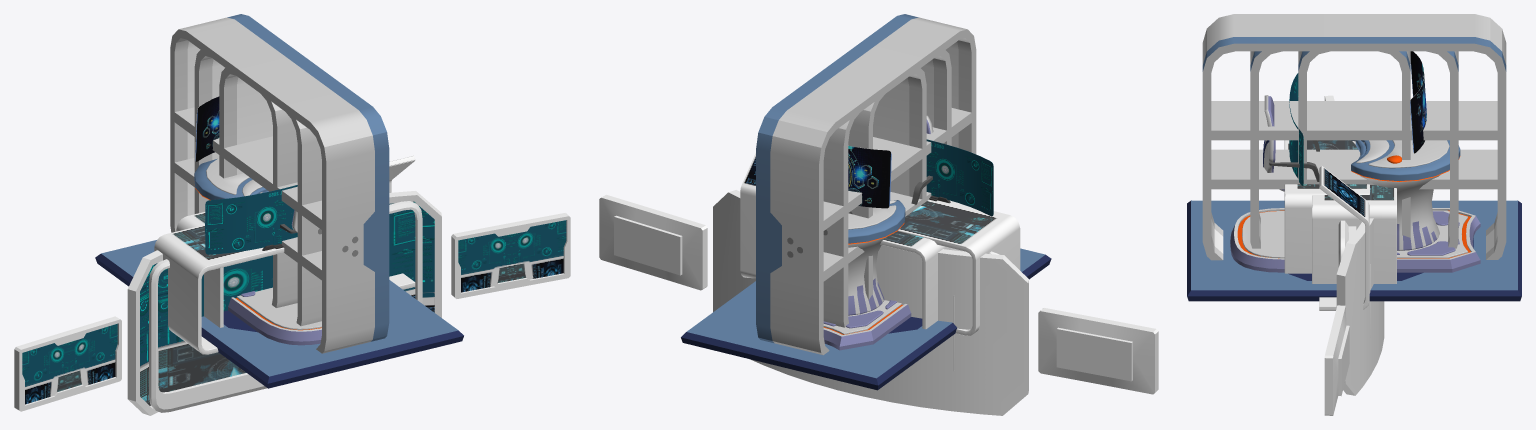
File: Class_Room.fbx
3 renders of one model, left to right at view 1: azimuth 30°, elevation 25°; view 2: azimuth 150°, elevation 25°; view 3: azimuth 270°, elevation 25°, orthographic. The views are drawn at different scales.
Parts seen in each view (by area): view 1: Shelf_Lvl_03, Bord_LVL_03, Classroom_Chair, Bord_LVL_02, Teacher_Desk_LVL_03, Shelf_Lvl_01, Shelf_Lvl_02, Teacher_Desk_LVL_02, Teacher_Desk_LVL_01; view 2: Bord_LVL_03, Shelf_Lvl_03, Classroom_Chair, Shelf_Lvl_02, Teacher_Desk_LVL_03, Teacher_Desk_LVL_02, Shelf_Lvl_01, Teacher_Desk_LVL_01; view 3: Shelf_Lvl_03, Classroom_Chair, Bord_LVL_03, Teacher_Desk_LVL_01, Shelf_Lvl_02, Shelf_Lvl_01, Teacher_Desk_LVL_03, Teacher_Desk_LVL_02, Bord_LVL_02.
Part boxes in pixels (box(x1,y1,x2,y2)): Shelf_Lvl_03: box(170, 14, 389, 353); Bord_LVL_03: box(14, 191, 570, 415); Classroom_Chair: box(95, 96, 463, 388); Bord_LVL_02: box(149, 201, 422, 412); Teacher_Desk_LVL_03: box(154, 160, 415, 354); Shelf_Lvl_01: box(219, 68, 297, 307); Shelf_Lvl_02: box(194, 47, 321, 326); Teacher_Desk_LVL_02: box(154, 156, 415, 351); Teacher_Desk_LVL_01: box(176, 212, 223, 327); Bord_LVL_03: box(599, 190, 1158, 415); Shelf_Lvl_03: box(756, 14, 976, 355); Classroom_Chair: box(681, 115, 1051, 390); Shelf_Lvl_02: box(823, 47, 951, 327); Teacher_Desk_LVL_03: box(740, 139, 1020, 335); Teacher_Desk_LVL_02: box(740, 153, 1020, 332); Shelf_Lvl_01: box(848, 68, 926, 299); Teacher_Desk_LVL_01: box(880, 231, 951, 329); Shelf_Lvl_03: box(1202, 14, 1506, 260); Classroom_Chair: box(1187, 51, 1521, 301); Bord_LVL_03: box(1324, 95, 1384, 415); Teacher_Desk_LVL_01: box(1312, 185, 1396, 283); Shelf_Lvl_02: box(1250, 43, 1458, 248); Shelf_Lvl_01: box(1298, 43, 1410, 237); Teacher_Desk_LVL_03: box(1285, 73, 1369, 310); Teacher_Desk_LVL_02: box(1284, 140, 1369, 307); Bord_LVL_02: box(1338, 220, 1370, 337).
Size of the model in its own units: 418 by 225 by 226.
Materials: 3 (3 with a texture image).
